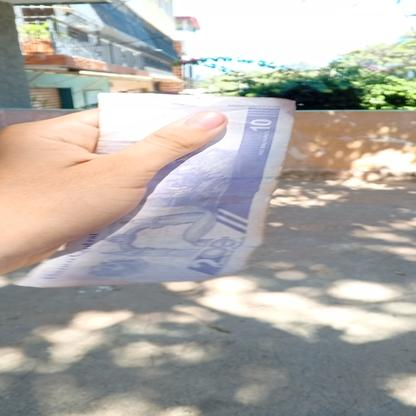ten-back-vef: (19, 92, 296, 278)
